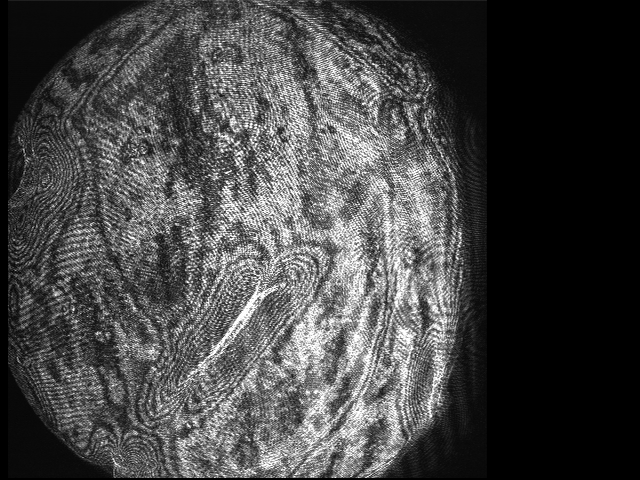plume: (150, 258, 314, 410), (7, 115, 85, 266)
